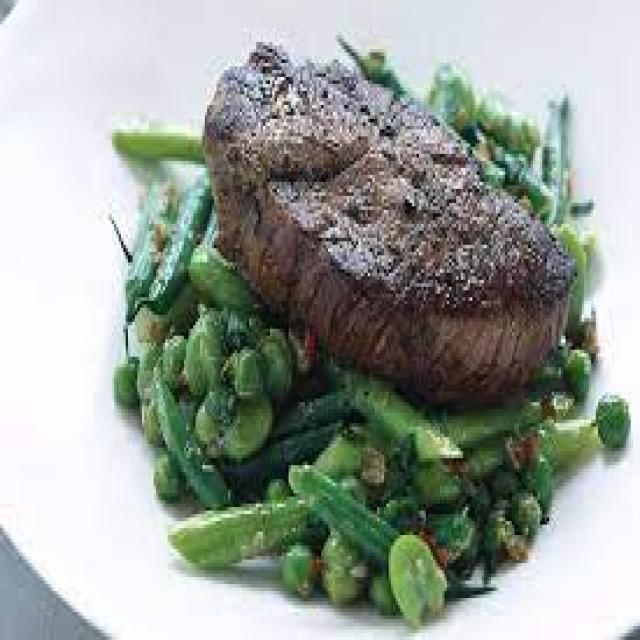Carne: (200, 35, 577, 402)
